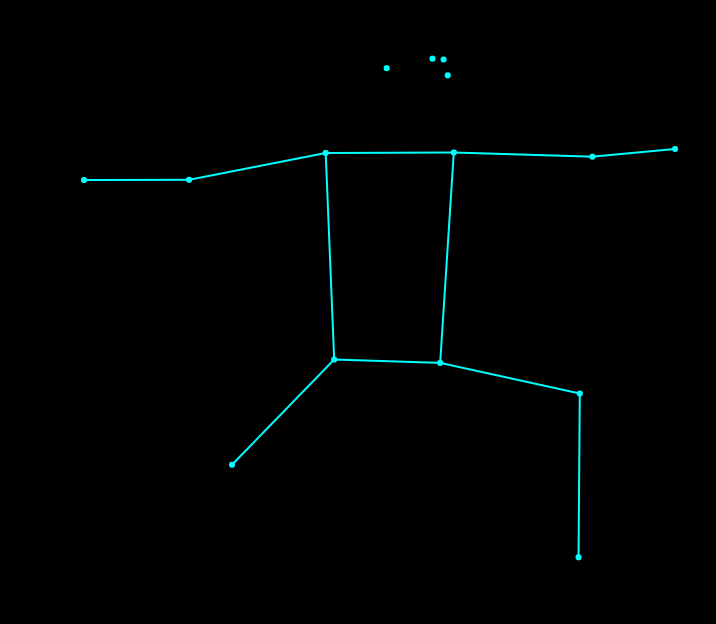warrior_2: (74, 42, 687, 564)
